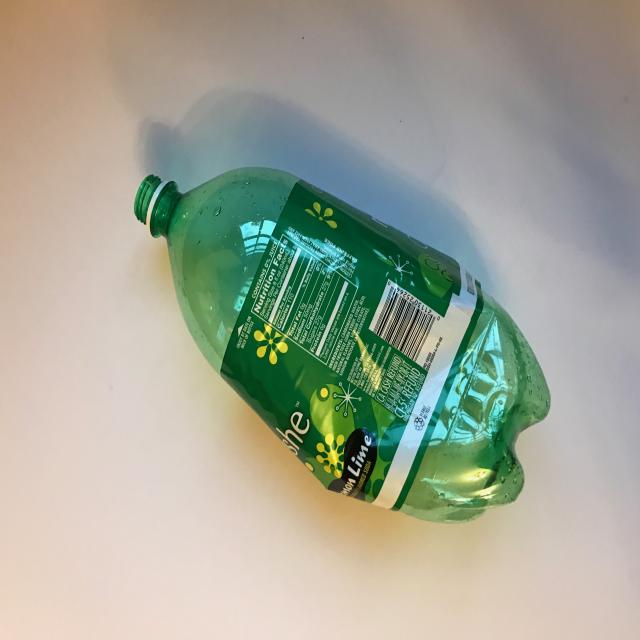plastic: (134, 165, 552, 524)
